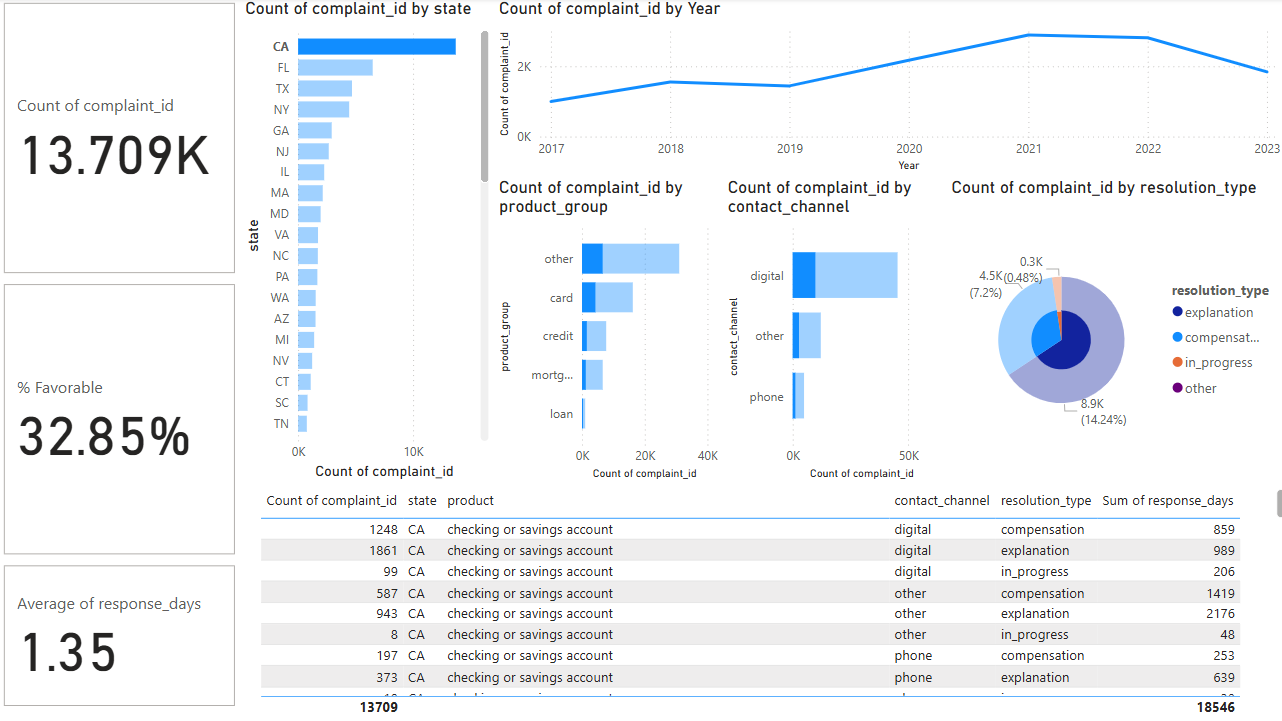

The page's visual inventory and layout, read from the dashboard file:
{"tool":"powerbi","page":{"name":"Page 1","canvas":[1280,720],"ordinal":0},"visuals":[{"type":"cardVisual","fields":{"Data":["CountNonNull(stg_consumer_complaints.complaint_id)"]},"box":[0,0,240.1,279.9],"z":0},{"type":"cardVisual","fields":{"Data":["stg_consumer_complaints.Measure"]},"box":[0,279.9,240.1,279.9],"z":1000},{"type":"cardVisual","fields":{"Data":["Avg(stg_consumer_complaints.response_days)"]},"box":[0,559.8,240.1,150.5],"z":2000},{"type":"barChart","fields":{"Category":["stg_consumer_complaints.state"],"Y":["CountNonNull(stg_consumer_complaints.complaint_id)"]},"box":[240.1,0,252.5,483.9],"z":3000},{"type":"barChart","fields":{"Y":["CountNonNull(stg_consumer_complaints.complaint_id)"],"Category":["stg_consumer_complaints.product_group"]},"box":[492.6,177.9,227.6,306],"z":4000},{"type":"barChart","fields":{"Y":["CountNonNull(stg_consumer_complaints.complaint_id)"],"Category":["stg_consumer_complaints.contact_channel"]},"box":[720.3,177.9,222.7,306],"z":5000},{"type":"pieChart","fields":{"Category":["stg_consumer_complaints.resolution_type"],"Y":["CountNonNull(stg_consumer_complaints.complaint_id)"]},"box":[942.9,177.9,337.1,306],"z":6000},{"type":"lineChart","fields":{"Category":["stg_consumer_complaints.date_received.Variation.Date Hierarchy.Year","stg_consumer_complaints.date_received.Variation.Date Hierarchy.Quarter","stg_consumer_complaints.date_received.Variation.Date Hierarchy.Month","stg_consumer_complaints.date_received.Variation.Date Hierarchy.Day"],"Y":["CountNonNull(stg_consumer_complaints.complaint_id)"]},"box":[492.6,0,787.4,177.9],"z":7000},{"type":"tableEx","fields":{"Values":["CountNonNull(stg_consumer_complaints.complaint_id)","stg_consumer_complaints.state","stg_consumer_complaints.product","stg_consumer_complaints.contact_channel","stg_consumer_complaints.resolution_type","Sum(stg_consumer_complaints.response_days)"]},"box":[240.1,483.9,1040,236.4],"z":8000}]}

Visuals, with their boxes in screenshot pixels (x1, y1, x2, y2), scaled from the page's 1280x720 canvas onto the 1282x721 screenshot:
cardVisual - CountNonNull(stg_consumer_complaints.complaint_id): [0,0,240,280]
cardVisual - stg_consumer_complaints.Measure: [0,280,240,561]
cardVisual - Avg(stg_consumer_complaints.response_days): [0,561,240,711]
barChart - stg_consumer_complaints.state x CountNonNull(stg_consumer_complaints.complaint_id): [240,0,493,485]
barChart - CountNonNull(stg_consumer_complaints.complaint_id) x stg_consumer_complaints.product_group: [493,178,721,485]
barChart - CountNonNull(stg_consumer_complaints.complaint_id) x stg_consumer_complaints.contact_channel: [721,178,944,485]
pieChart - stg_consumer_complaints.resolution_type x CountNonNull(stg_consumer_complaints.complaint_id): [944,178,1281,485]
lineChart - stg_consumer_complaints.date_received.Variation.Date Hierarchy.Year x stg_consumer_complaints.date_received.Variation.Date Hierarchy.Quarter: [493,0,1281,178]
tableEx - CountNonNull(stg_consumer_complaints.complaint_id) x stg_consumer_complaints.state: [240,485,1281,720]
